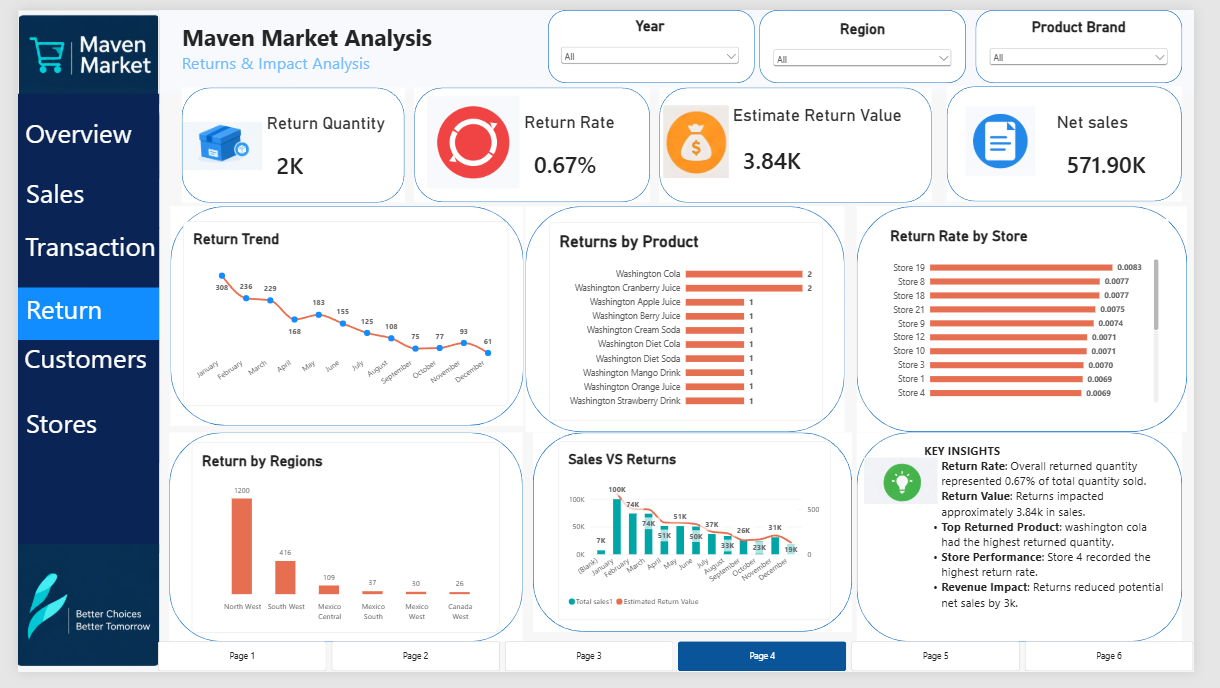

This screenshot's page, from the dashboard's own definition file:
{"tool":"powerbi","page":{"name":"Page 4","canvas":[1920,1080],"ordinal":3},"visuals":[{"type":"textbox","title":"Maven Market Analysis ","box":[215.7,0,1704.3,135.8],"z":0},{"type":"image","box":[0,0,230.5,156.4],"z":1},{"type":"textbox","box":[0,135.8,230.5,749.2],"z":2},{"type":"image","box":[0,870.1,230.5,209.9],"z":3},{"type":"textbox","box":[0,166.7,230.5,96.7],"z":4},{"type":"textbox","box":[0,263.5,230.5,92.6],"z":5},{"type":"textbox","box":[0,356.1,230.5,96.7],"z":6},{"type":"textbox","box":[0,452.8,230.5,86.4],"z":7},{"type":"textbox","box":[0,539.3,230.5,98.8],"z":8},{"type":"textbox","box":[0,638.1,230.5,100.9],"z":9},{"type":"shape","box":[864.5,0,337.6,119.4],"z":10},{"type":"slicer","title":"Year","fields":{"Values":["sales.transaction year"]},"box":[881,12.3,300.5,88.5],"z":12},{"type":"shape","box":[1210.3,0,337.6,119.4],"z":13},{"type":"slicer","title":"Region","fields":{"Values":["MavenMarket_Regions.sales_district"]},"box":[1228.8,16.5,300.5,88.5],"z":14},{"type":"shape","box":[1562.3,0,337.6,119.4],"z":15},{"type":"slicer","title":"Product Brand","fields":{"Values":["MavenMarket_Products.product_brand"]},"box":[1580.8,14.4,300.5,88.5],"z":16},{"type":"cardVisual","title":"Total sales ","fields":{"Data":["sales.Total sales1"]},"box":[539.6,356.2,186.4,119.4],"z":17},{"type":"shape","box":[646.3,125.6,384.9,187.3],"z":19},{"type":"shape","box":[1517,123.5,383.6,188.2],"z":20},{"type":"shape","box":[1047.7,125.6,445.2,188.2],"z":21},{"type":"cardVisual","title":"Return Rate","fields":{"Data":["sales.Return rate1"]},"box":[827,166.5,173.7,119.4],"z":23},{"type":"cardVisual","title":"Estimate Return Value","fields":{"Data":["sales.Estimated Return Value"]},"box":[1167.2,155.6,289.5,130.3],"z":24},{"type":"cardVisual","title":"Net sales ","fields":{"Data":["sales.Net Sales"]},"box":[1695.7,166.5,186.4,119.4],"z":25},{"type":"shape","box":[249.1,321.1,576.3,358.1],"z":26},{"type":"lineChart","title":"Return Trend","fields":{"Category":["MavenMarket_Returns_1997-1998.return_date.Variation.Date Hierarchy.Month"],"Y":["Sum(MavenMarket_Returns_1997-1998.quantity)"]},"box":[269.6,345.8,531,300.5],"z":27},{"type":"shape","box":[829.5,321.1,520.8,368.8],"z":28},{"type":"clusteredBarChart","title":"Returns by Product","fields":{"Category":["MavenMarket_Products.product_name"],"Y":["Sum(MavenMarket_Returns_1997-1998.quantity)"]},"box":[866.6,347.9,446.7,323.2],"z":29},{"type":"shape","box":[1368.6,320,539.3,368.4],"z":30},{"type":"clusteredBarChart","title":"Return Rate by Store","fields":{"Category":["MavenMarket_Stores.store_name"],"Y":["sales.Return rate1"]},"box":[1408.6,341.4,470,315.7],"z":31},{"type":"shape","box":[247,689.5,577.1,341.7],"z":32},{"type":"clusteredColumnChart","title":"Return by Regions","fields":{"Category":["MavenMarket_Regions.sales_region"],"Y":["Sum(MavenMarket_Returns_1997-1998.quantity)"]},"box":[284,706,502.1,310.4],"z":33},{"type":"shape","box":[839.8,689.5,520.8,325.2],"z":34},{"type":"lineClusteredColumnComboChart","title":"Sales VS Returns","fields":{"Category":["MavenMarket_Returns_1997-1998.return_date.Variation.Date Hierarchy.Month"],"Y":["sales.Total sales1"],"Y2":["sales.Estimated Return Value"]},"box":[881,703.9,444.6,292.3],"z":35},{"type":"shape","box":[1368.8,689.5,531.2,341.7],"z":36},{"type":"shape","box":[267.6,125.6,363.7,188.2],"z":37},{"type":"cardVisual","title":"Return Quantity","fields":{"Data":["sales.Return quantity1"]},"box":[406.2,168.8,209.9,119.4],"z":38},{"type":"actionButton","box":[0,170.8,230.5,100.9],"z":39},{"type":"textbox","box":[0,170.8,230.5,102.9],"z":40},{"type":"pageNavigator","box":[228.1,1030.6,1691.9,49.4],"z":41},{"type":"image","box":[269.6,156.4,129.7,129.7],"z":42},{"type":"image","box":[1529.3,156.4,150.3,113.2],"z":43},{"type":"image","box":[662.8,140,160.5,150.3],"z":44},{"type":"image","box":[1047.7,154.4,119.4,119.4],"z":45},{"type":"textbox","box":[1480,705.7,398.6,291.4],"z":46},{"type":"image","box":[1378.6,730,122.9,75.7],"z":47}]}

Visuals, with their boxes in screenshot pixels (x1, y1, x2, y2), scaled from the page's 1920x1080 canvas onto the 1220x688 screenshot:
"Maven Market Analysis " textbox: 137, 0, 1219, 87
image: 0, 0, 146, 100
textbox: 0, 87, 146, 564
image: 0, 554, 146, 687
textbox: 0, 106, 146, 168
textbox: 0, 168, 146, 227
textbox: 0, 227, 146, 288
textbox: 0, 288, 146, 343
textbox: 0, 344, 146, 406
textbox: 0, 406, 146, 471
shape: 549, 0, 764, 76
"Year" slicer: 560, 8, 751, 64
shape: 769, 0, 984, 76
"Region" slicer: 781, 11, 972, 67
shape: 993, 0, 1207, 76
"Product Brand" slicer: 1004, 9, 1195, 66
"Total sales " cardVisual: 343, 227, 461, 303
shape: 411, 80, 655, 199
shape: 964, 79, 1208, 199
shape: 666, 80, 949, 200
"Return Rate" cardVisual: 525, 106, 636, 182
"Estimate Return Value" cardVisual: 742, 99, 926, 182
"Net sales " cardVisual: 1077, 106, 1196, 182
shape: 158, 205, 524, 433
"Return Trend" lineChart: 171, 220, 509, 412
shape: 527, 205, 858, 439
"Returns by Product" clusteredBarChart: 551, 222, 834, 428
shape: 870, 204, 1212, 439
"Return Rate by Store" clusteredBarChart: 895, 217, 1194, 419
shape: 157, 439, 524, 657
"Return by Regions" clusteredColumnChart: 180, 450, 500, 647
shape: 534, 439, 865, 646
"Sales VS Returns" lineClusteredColumnComboChart: 560, 448, 842, 635
shape: 870, 439, 1207, 657
shape: 170, 80, 401, 200
"Return Quantity" cardVisual: 258, 108, 391, 184
actionButton: 0, 109, 146, 173
textbox: 0, 109, 146, 174
pageNavigator: 145, 657, 1219, 687
image: 171, 100, 254, 182
image: 972, 100, 1067, 172
image: 421, 89, 523, 185
image: 666, 98, 742, 174
textbox: 940, 450, 1194, 635
image: 876, 465, 954, 513
